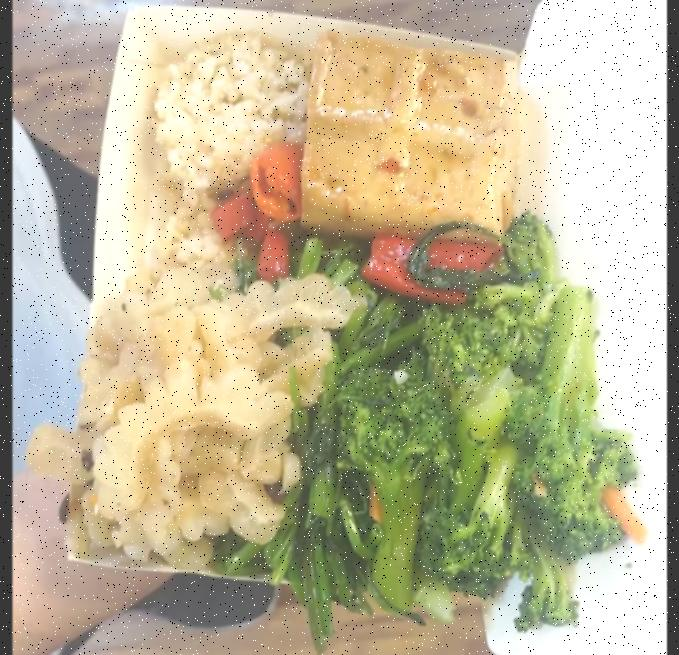big grilled chicken leg: (59, 0, 536, 607)
big herbal chicken leg: (152, 27, 296, 269)
braised fish fillet: (354, 272, 638, 599), (68, 278, 348, 582), (292, 28, 526, 247), (258, 249, 371, 596)
